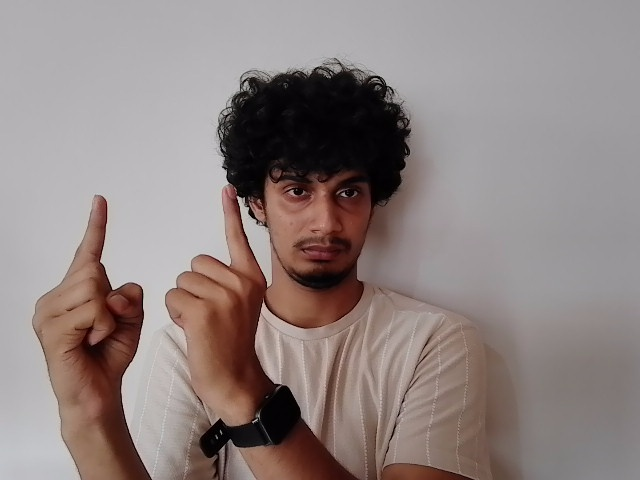play: (25, 181, 274, 381)
